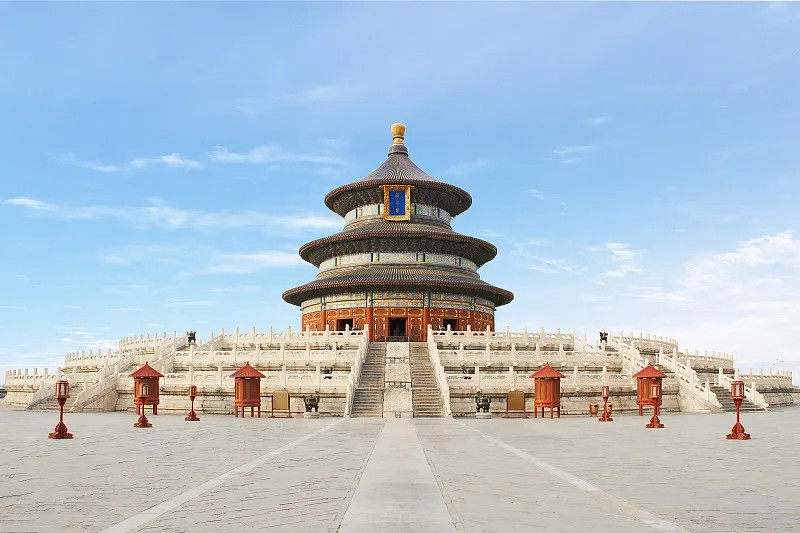Heaven: (281, 122, 513, 342)
